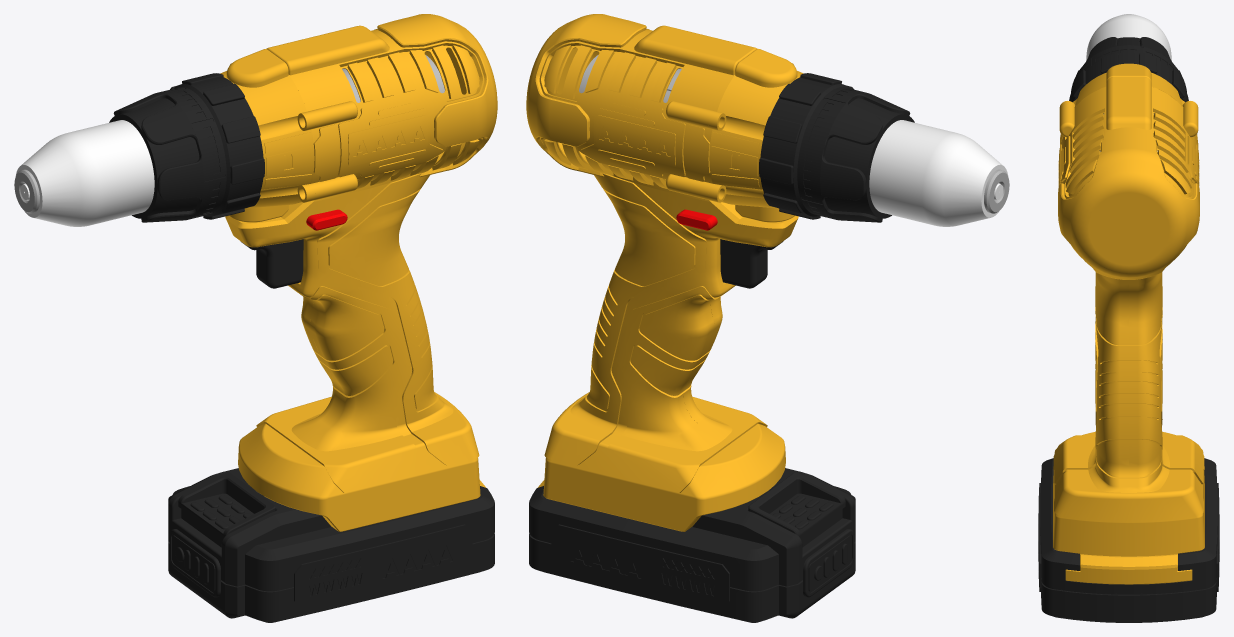
File: modelo.glb
3 renders of one model, left to right at view 1: azimuth 30°, elevation 25°; view 2: azimuth 150°, elevation 25°; view 3: azimuth 270°, elevation 25°, orthographic. The views are drawn at different scales.
Parts seen in each view (by area): view 1: taadromerge_AA546EFB; view 2: taadromerge_AA546EFB; view 3: taadromerge_AA546EFB.
Boxes of the visible parts, <box> form: taadromerge_AA546EFB: <box>14,14,497,622</box>; taadromerge_AA546EFB: <box>526,14,1009,622</box>; taadromerge_AA546EFB: <box>1038,14,1219,622</box>.
Size of the model in its own units: 0.2548 by 0.2857 by 0.1.
9 materials, 1 textured.
